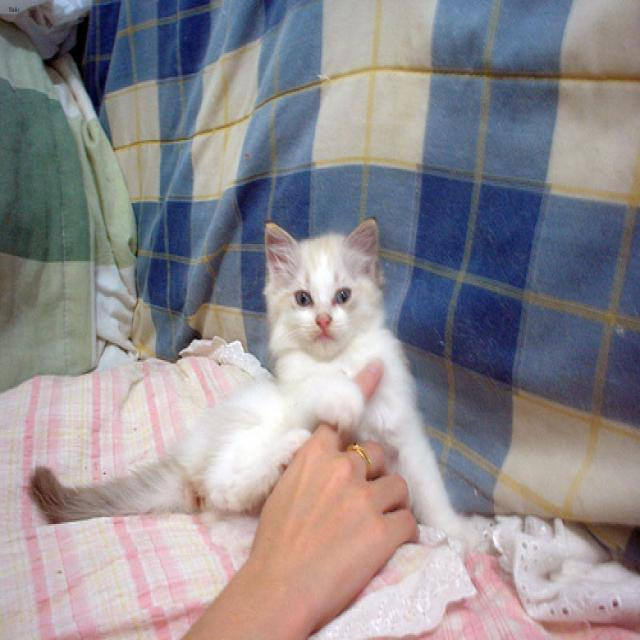Ragdoll: (261, 215, 376, 358)
